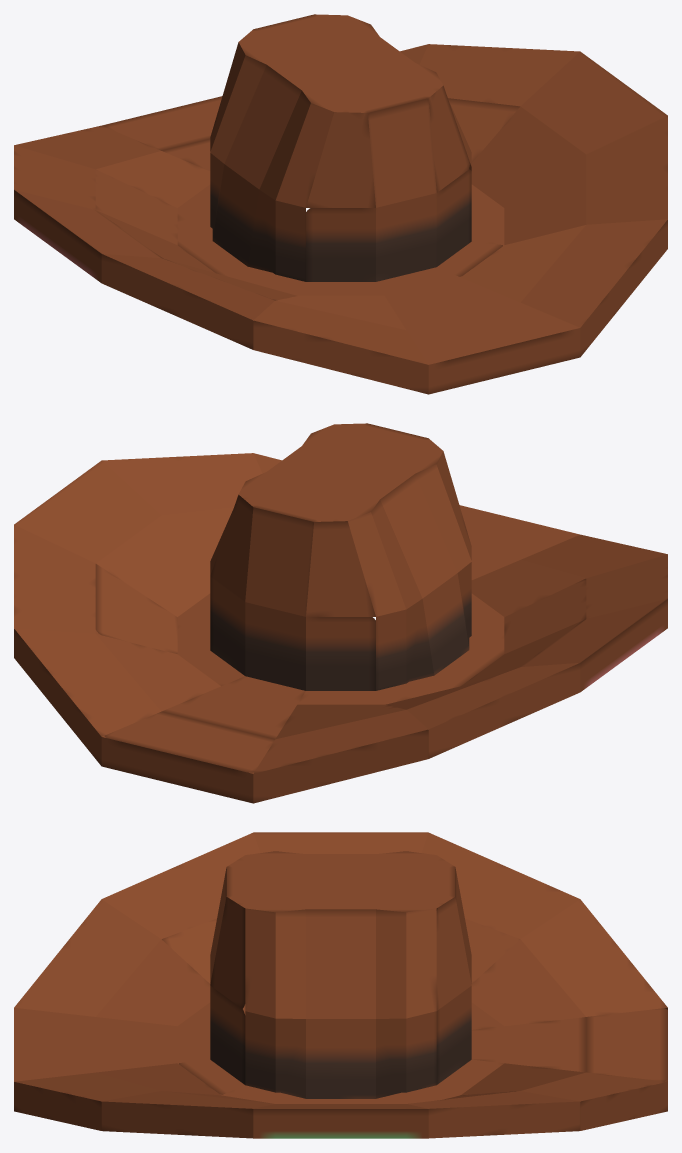
The model's file is CowboyHat.fbx.
The picture shows the model from 3 angles, top to bottom: view 1: azimuth 30°, elevation 25°; view 2: azimuth 150°, elevation 25°; view 3: azimuth 270°, elevation 25°; orthographic projection.
Parts seen in each view (by area): view 1: cylinder; view 2: cylinder; view 3: cylinder.
Part boxes in pixels (bbox=[...]): cylinder: bbox=[14, 14, 667, 394]; cylinder: bbox=[14, 423, 667, 803]; cylinder: bbox=[14, 832, 667, 1138].
Size of the model in its own units: 250 by 81.25 by 250.
1 material, 1 textured.
